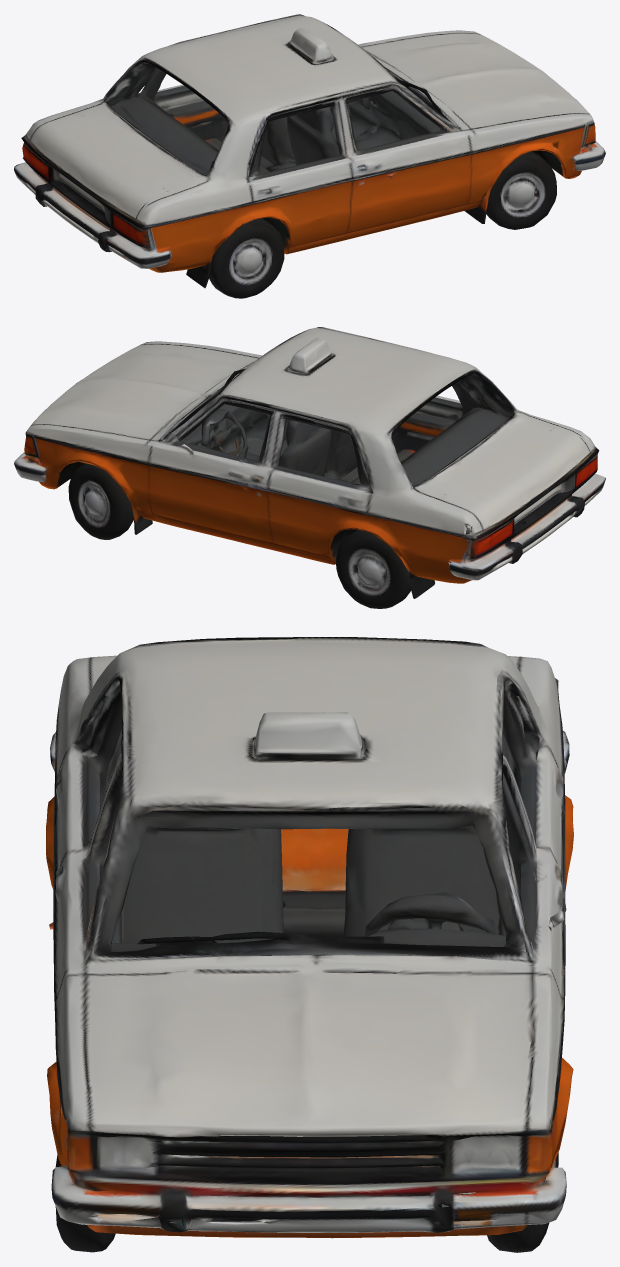
The model's file is model_pbr.glb.
The picture shows the model from 3 angles, top to bottom: view 1: azimuth 30°, elevation 25°; view 2: azimuth 150°, elevation 25°; view 3: azimuth 270°, elevation 25°; orthographic projection. The views are drawn at different scales.
Parts seen in each view (by area): view 1: tripo_node_8977768c-7d9f-45ac-9c23-1e4c5fce741d; view 2: tripo_node_8977768c-7d9f-45ac-9c23-1e4c5fce741d; view 3: tripo_node_8977768c-7d9f-45ac-9c23-1e4c5fce741d.
Boxes of the visible parts, left/top/right/bottom form: tripo_node_8977768c-7d9f-45ac-9c23-1e4c5fce741d: left=14, top=14, right=605, bottom=298; tripo_node_8977768c-7d9f-45ac-9c23-1e4c5fce741d: left=14, top=327, right=605, bottom=608; tripo_node_8977768c-7d9f-45ac-9c23-1e4c5fce741d: left=46, top=637, right=573, bottom=1252.
Size of the model in its own units: 0.9999 by 0.3771 by 0.4713.
Materials: 1 (1 with a texture image).
